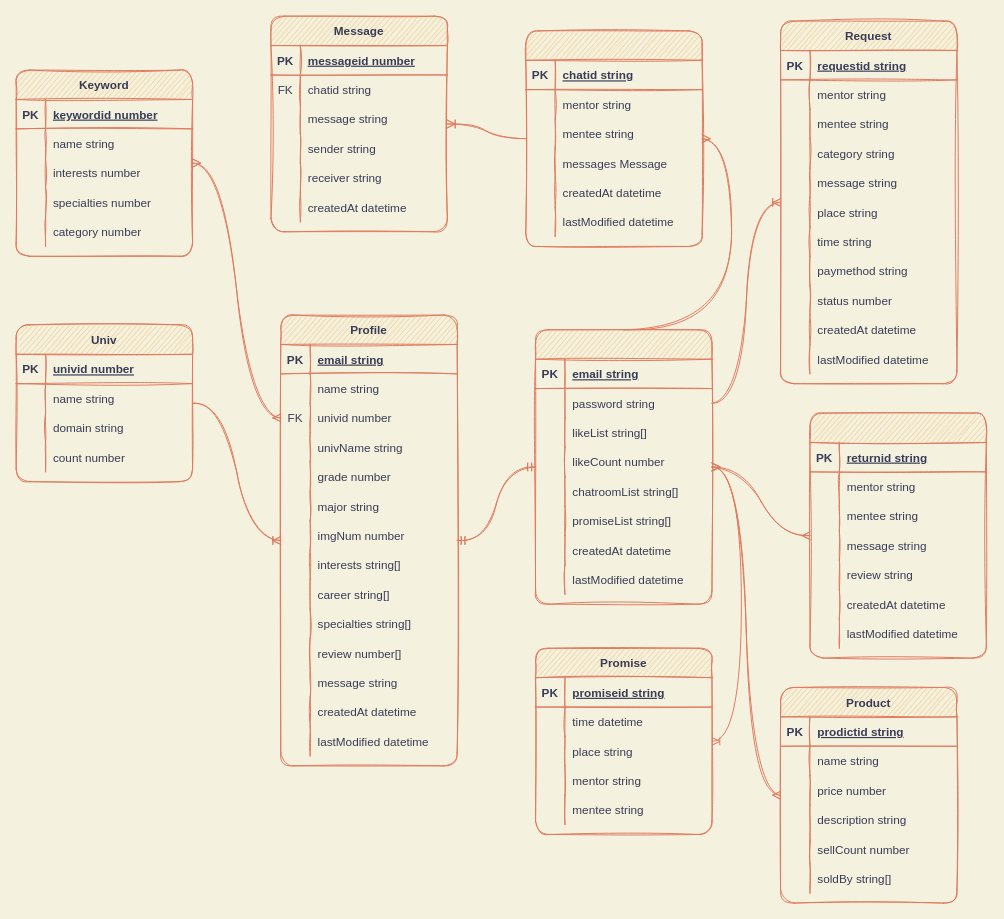
This 1004x919 diagram has some shape labels left out. The box of each missing label's shape, as (x1, y1, x2, y2) in pixels:
Chatroom: (525, 30, 702, 246)
Returns: (809, 412, 986, 658)
User: (535, 329, 712, 604)
